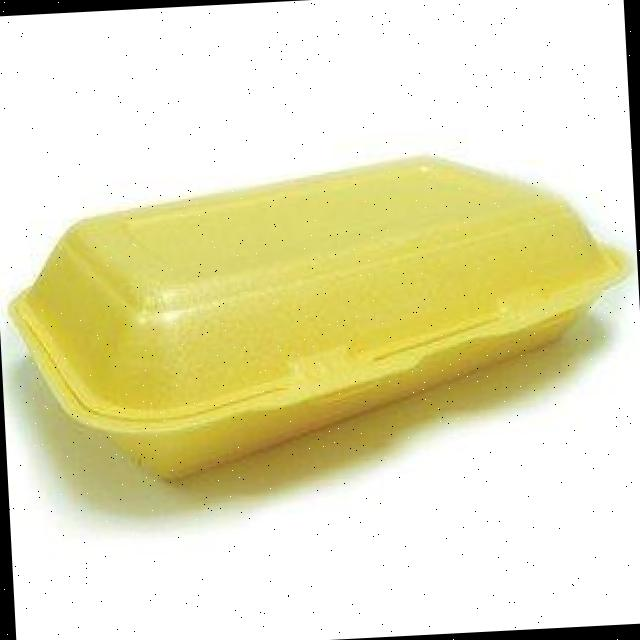styrofoam: (0, 137, 640, 490)
